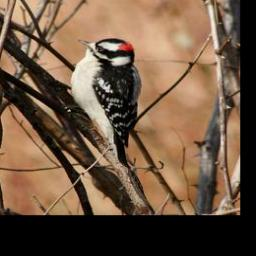Woodpecker: (65, 38, 141, 169)
